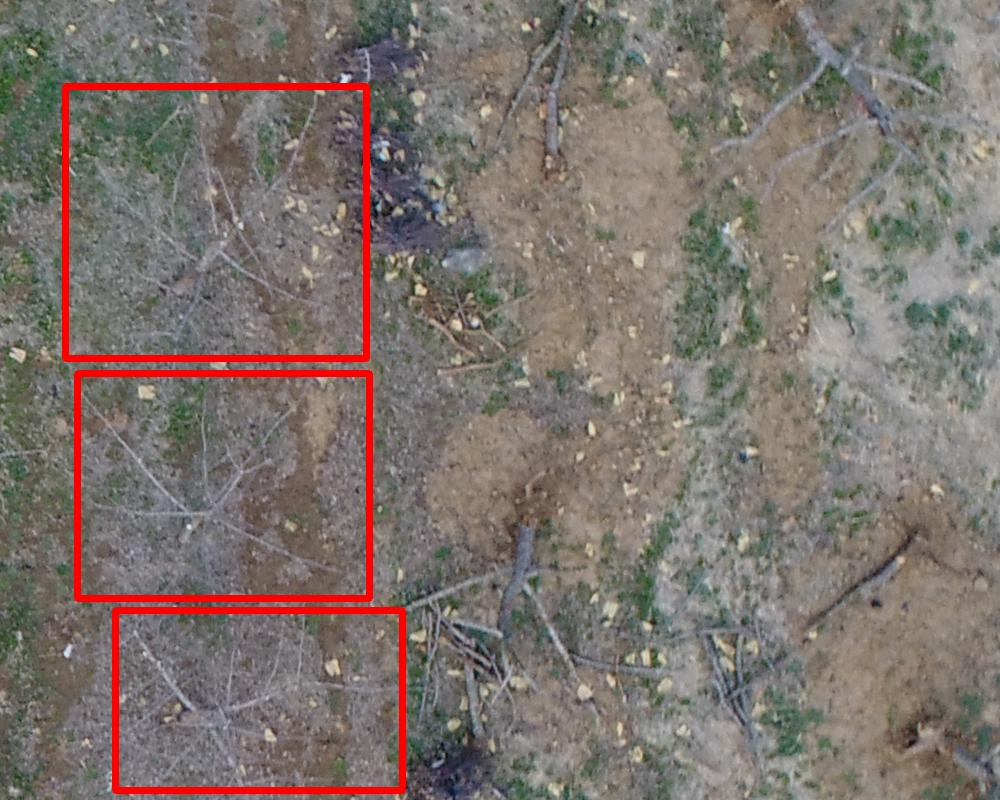apple: (65, 86, 366, 358), (77, 373, 369, 598), (115, 610, 402, 790)
